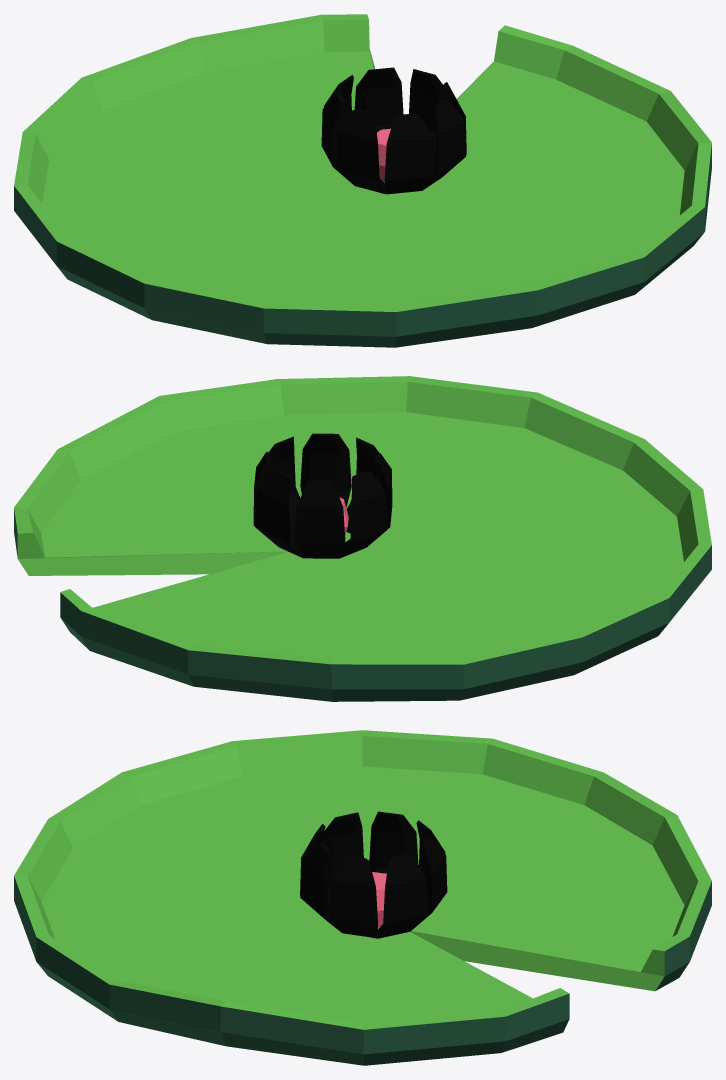
Rendered from Water Lily 01.fbx.
3 views of the same model, one above another, from view 1: azimuth 30°, elevation 25°; view 2: azimuth 150°, elevation 25°; view 3: azimuth 270°, elevation 25° (orthographic).
Parts seen in each view (by area): view 1: Water Lily 01; view 2: Water Lily 01; view 3: Water Lily 01.
Boxes of the visible parts, <box> form: Water Lily 01: <box>14,14,711,347</box>; Water Lily 01: <box>14,376,711,701</box>; Water Lily 01: <box>14,730,711,1065</box>.
Bounding box in the file's own units: 111 × 17.62 × 109.
